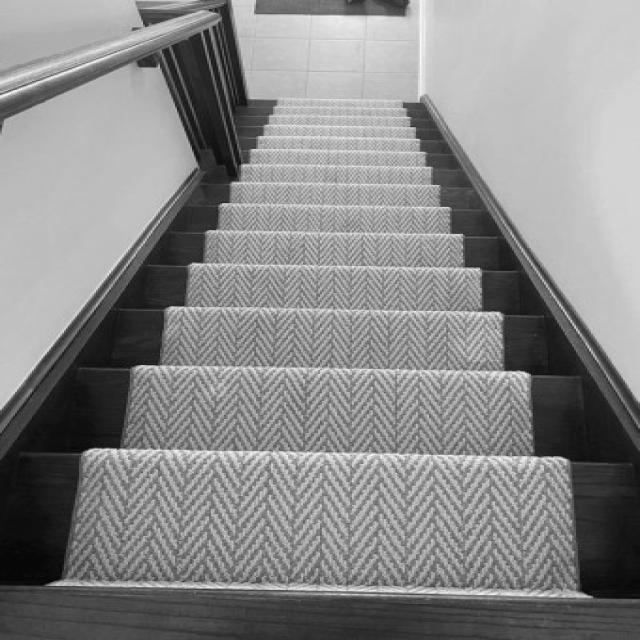stair: (66, 99, 579, 594)
